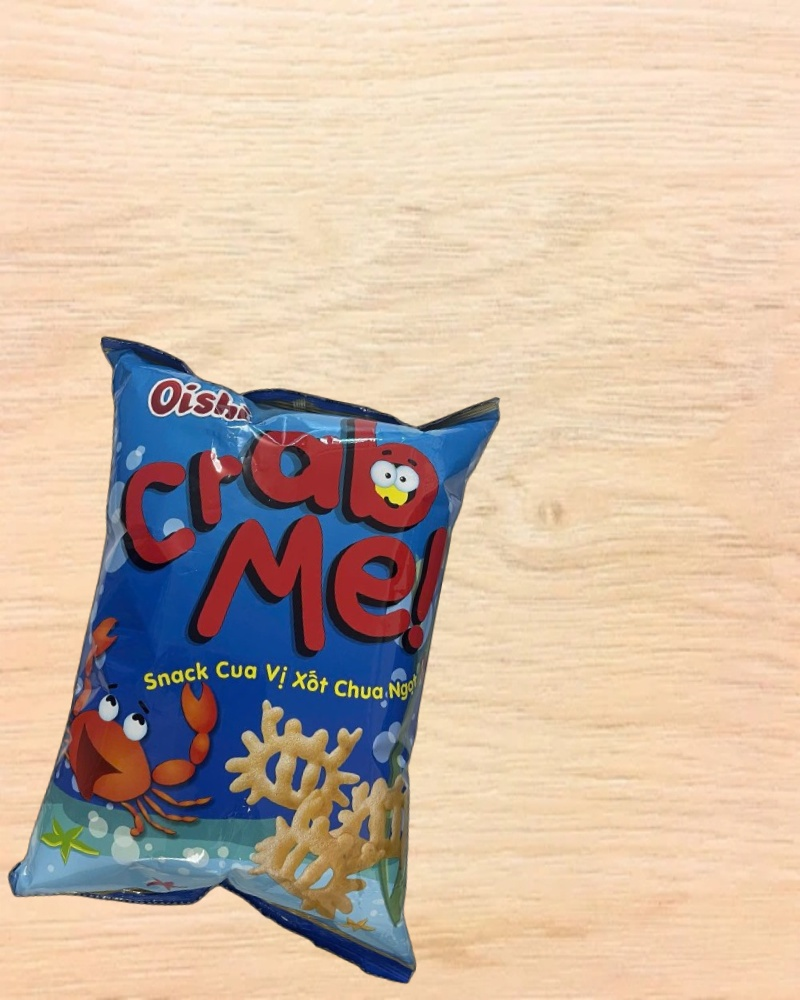Snack chay: (1, 329, 516, 987)
